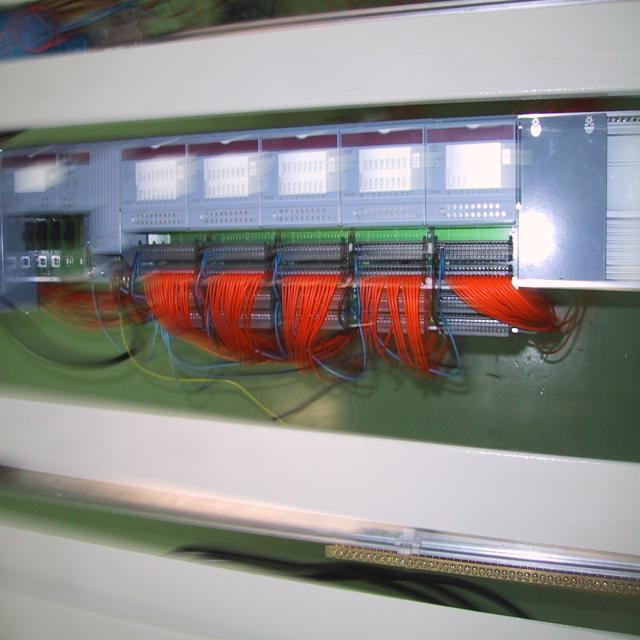SPS-System -Steuerungskomponente-: (428, 122, 516, 237), (0, 144, 119, 223), (342, 128, 427, 232), (263, 133, 340, 239), (118, 139, 189, 243), (190, 138, 261, 238)
